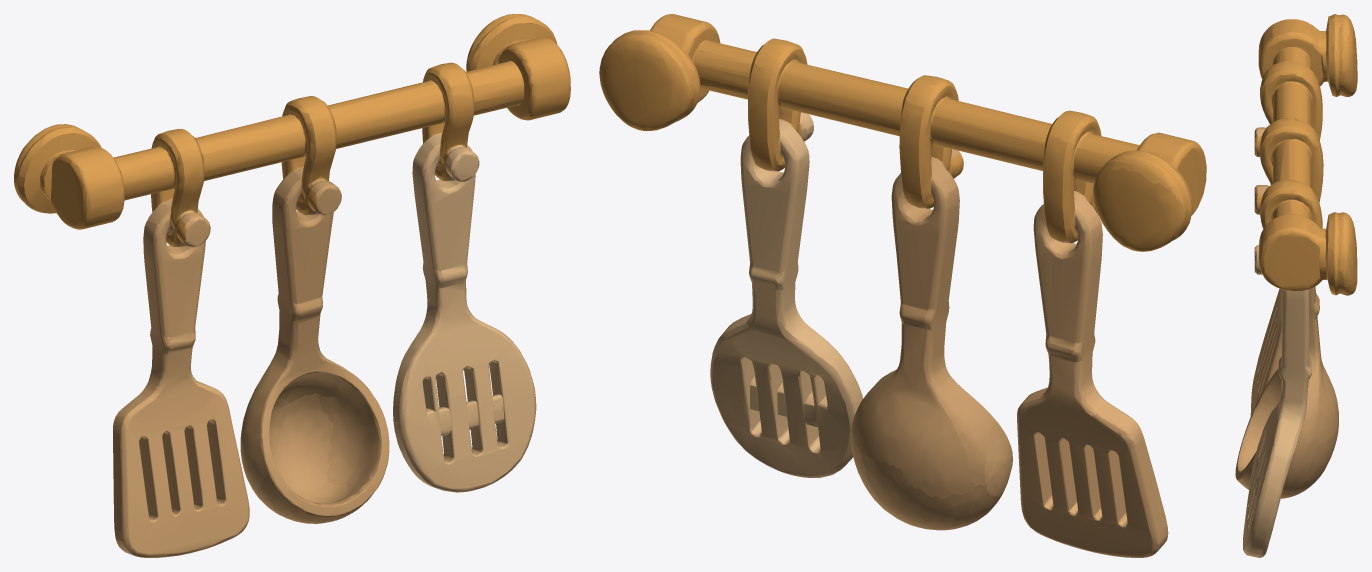
File: utensil-rail.glb
3 renders of one model, left to right at view 1: azimuth 30°, elevation 25°; view 2: azimuth 150°, elevation 25°; view 3: azimuth 270°, elevation 25°, orthographic. The views are drawn at different scales.
Visible parts, largest first — view 1: 挂钩杆, 锅铲, 漏勺, 汤勺; view 2: 挂钩杆, 锅铲, 汤勺, 漏勺; view 3: 挂钩杆, 漏勺, 汤勺, 锅铲.
Part boxes in pixels (<box>): 挂钩杆: <box>14,14,570,246</box>; 锅铲: <box>113,199,267,557</box>; 漏勺: <box>393,133,536,492</box>; 汤勺: <box>240,167,389,523</box>; 挂钩杆: <box>599,14,1206,251</box>; 锅铲: <box>984,191,1168,557</box>; 汤勺: <box>851,149,1012,530</box>; 漏勺: <box>710,112,863,477</box>; 挂钩杆: <box>1254,14,1357,295</box>; 漏勺: <box>1243,245,1312,557</box>; 汤勺: <box>1235,185,1338,498</box>; 锅铲: <box>1250,127,1281,416</box>.
Size of the model in its own units: 1.01 by 0.7484 by 0.2202.
